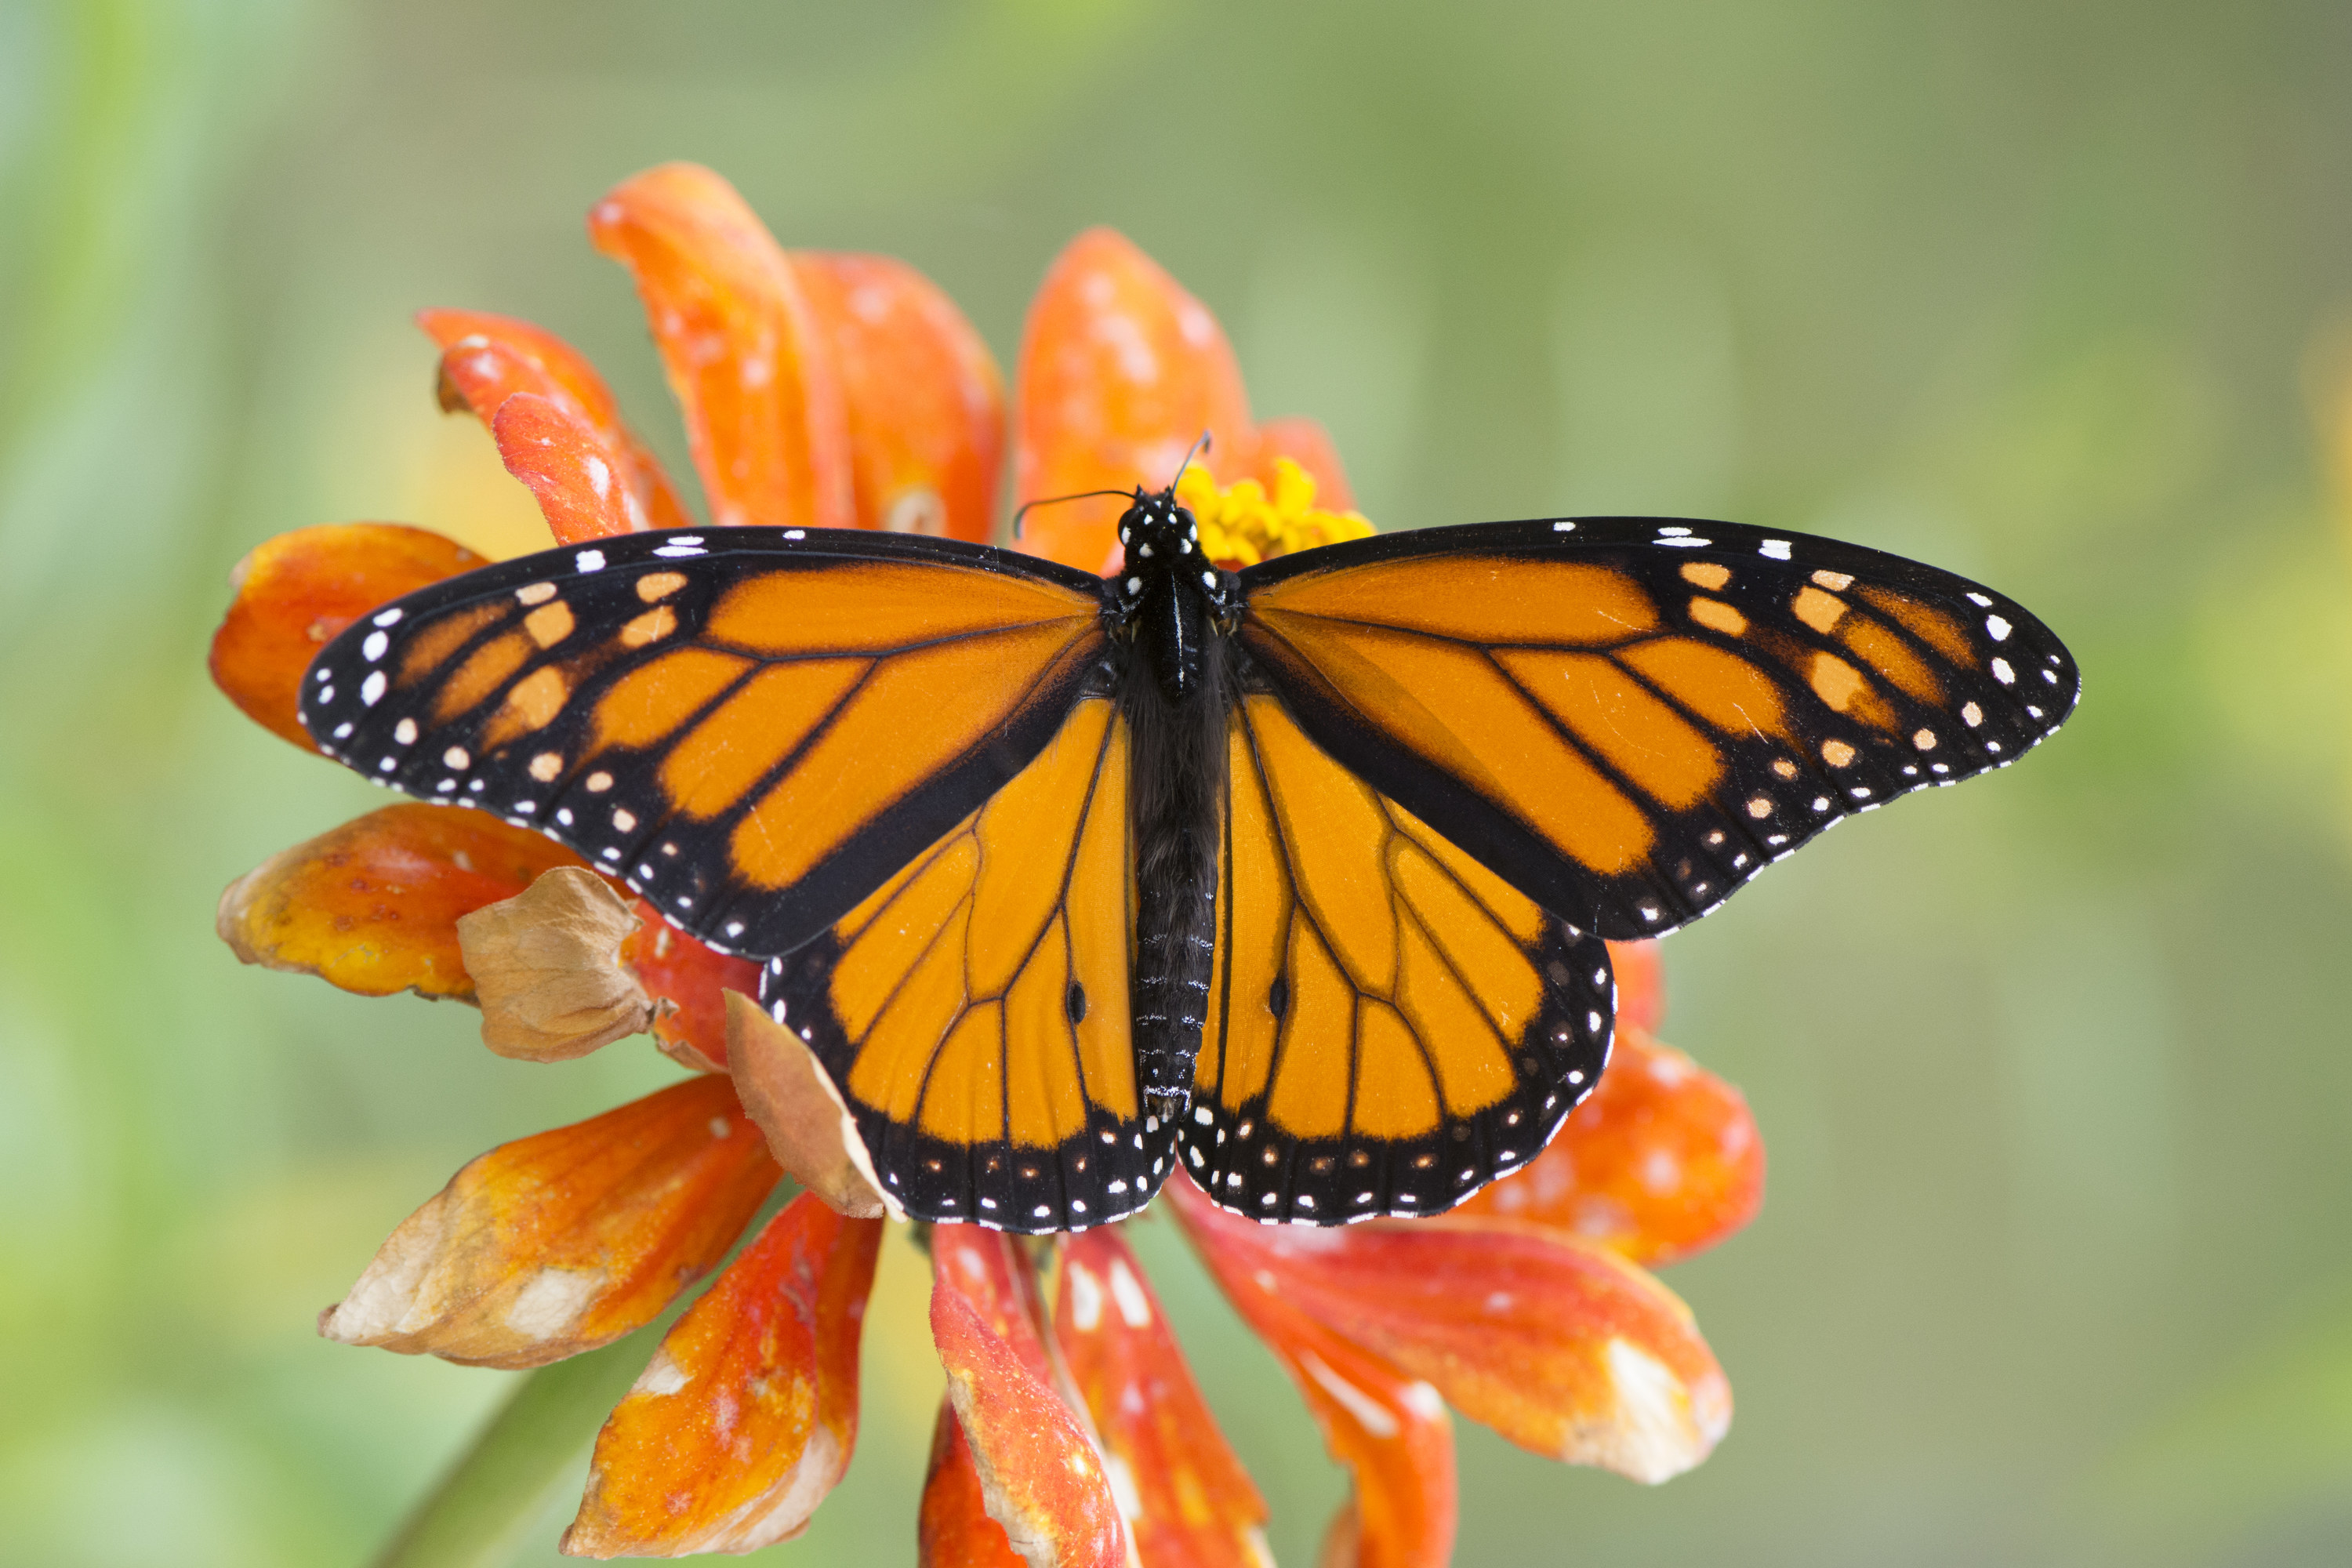Butterfly: (350, 438, 2079, 1211)
